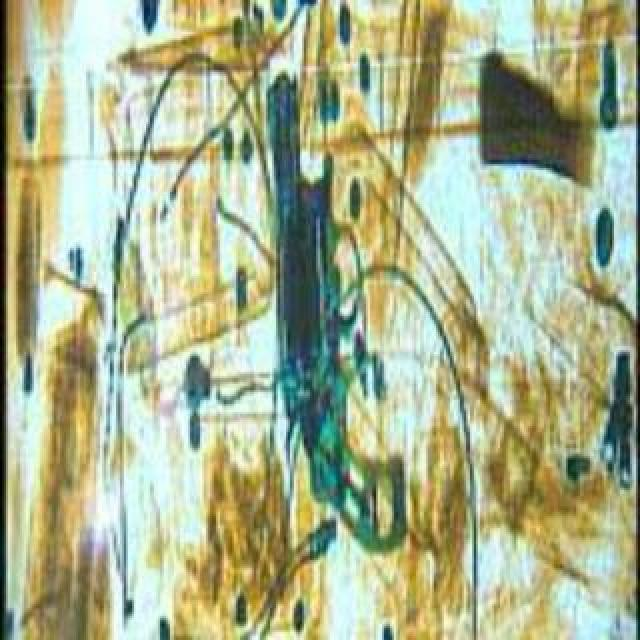gun: (264, 66, 404, 550)
